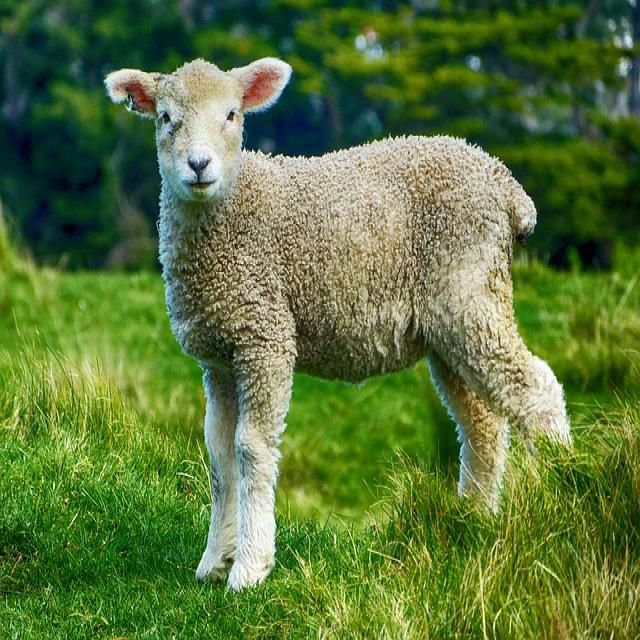goat: (105, 59, 572, 592)
